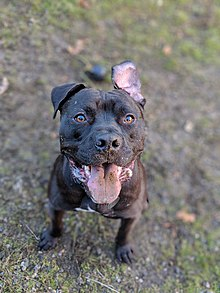Perro Pitbull: (45, 66, 168, 245)
